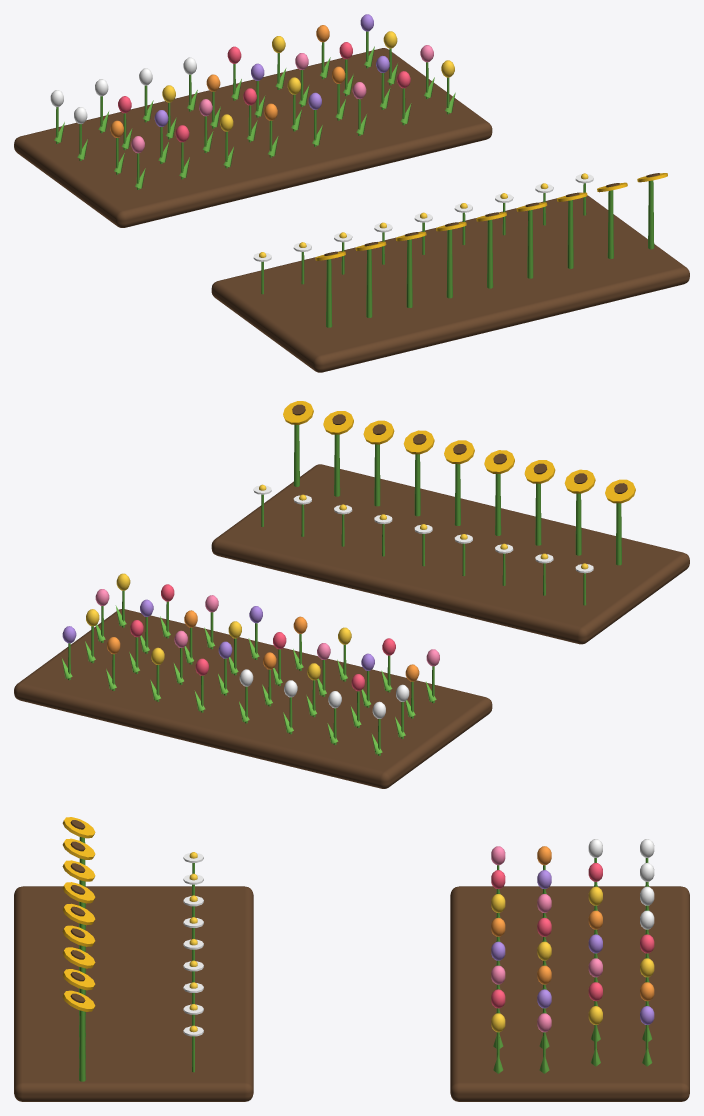
File: veggies-flowers.glb
The picture shows the model from 3 angles, top to bottom: view 1: azimuth 30°, elevation 25°; view 2: azimuth 150°, elevation 25°; view 3: azimuth 270°, elevation 25°; orthographic projection. The views are drawn at different scales.
Size of the model in its own units: 2.82 by 0.6782 by 3.95.
